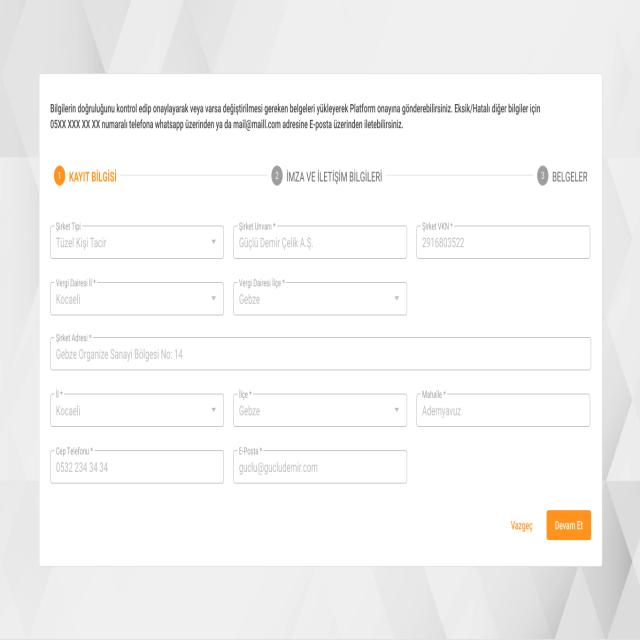QLabel: (48, 99, 542, 133), (552, 518, 587, 532), (509, 517, 536, 533)
VBtn: (546, 509, 593, 539), (508, 508, 542, 538)
VCard: (39, 72, 603, 568)
VCheckbox: (232, 388, 408, 428), (50, 388, 225, 428), (49, 277, 225, 316), (232, 278, 408, 316), (50, 222, 225, 259)
VContainer: (0, 0, 640, 640)
VStepper: (48, 156, 591, 194)
VTextField: (48, 332, 592, 372), (234, 445, 408, 487), (416, 388, 591, 428), (49, 445, 224, 485), (415, 222, 591, 261), (233, 222, 408, 261)
